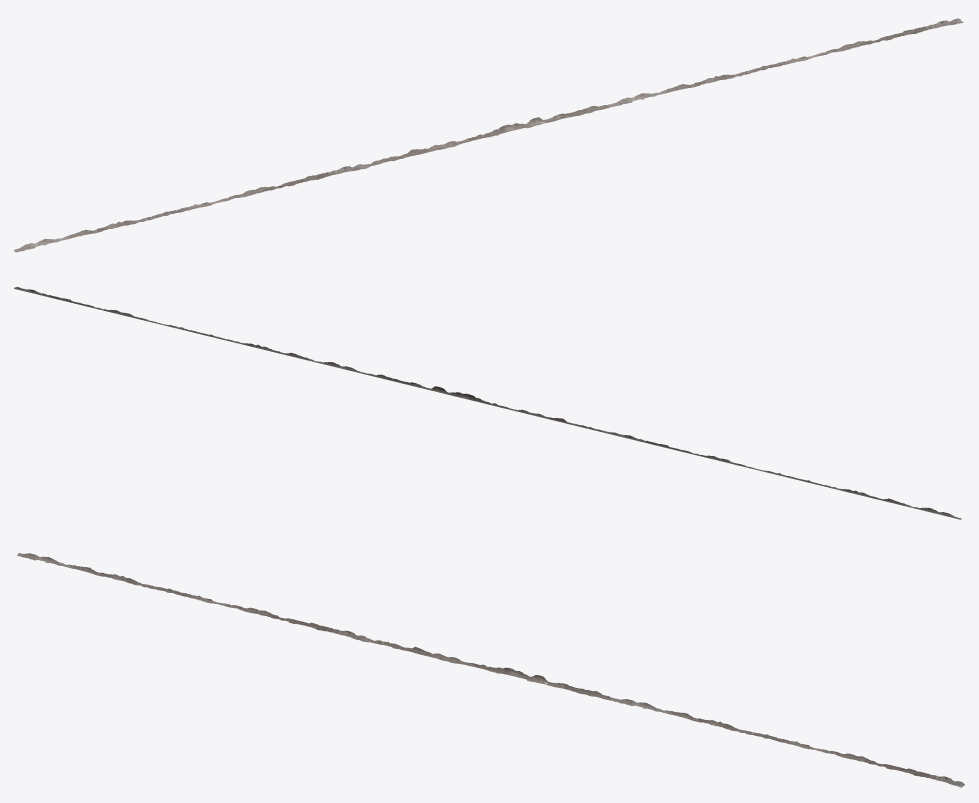
Rendered from SM_Wall_Concrete_Trim_400_01a.glb.
3 views of the same model, one above another, from view 1: azimuth 30°, elevation 25°; view 2: azimuth 150°, elevation 25°; view 3: azimuth 330°, elevation 25° (orthographic).
Visible parts, largest first — view 1: SM_Wall_Concrete_Trim_400_01a; view 2: SM_Wall_Concrete_Trim_400_01a; view 3: SM_Wall_Concrete_Trim_400_01a.
Boxes of the visible parts, x1=… form: SM_Wall_Concrete_Trim_400_01a: x1=14, y1=18, x2=963, y2=252; SM_Wall_Concrete_Trim_400_01a: x1=14, y1=286, x2=961, y2=519; SM_Wall_Concrete_Trim_400_01a: x1=17, y1=553, x2=964, y2=787.
Size of the model in its own units: 4 by 0.0246 by 0.0329.
Materials: 1 (1 with a texture image).
